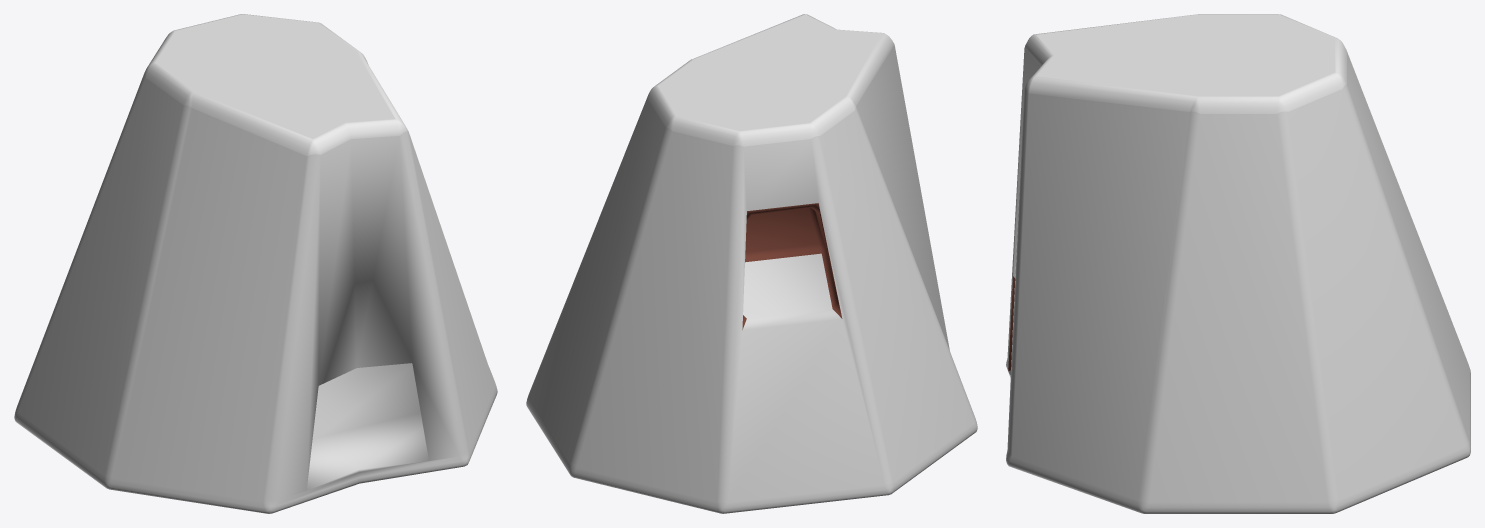
File: Waterfall.fbx
3 views of the same model, side by side, from view 1: azimuth 30°, elevation 25°; view 2: azimuth 150°, elevation 25°; view 3: azimuth 270°, elevation 25° (orthographic). The views are drawn at different scales.
Parts seen in each view (by area): view 1: Cylinder.004; view 2: Cylinder.004; view 3: Cylinder.004.
Part boxes in pixels (x1,y1,x2,y2): Cylinder.004: [14, 14, 497, 513]; Cylinder.004: [526, 14, 977, 513]; Cylinder.004: [1006, 14, 1470, 513].
Bounding box in the file's own units: 1338 × 1149 × 1338.
